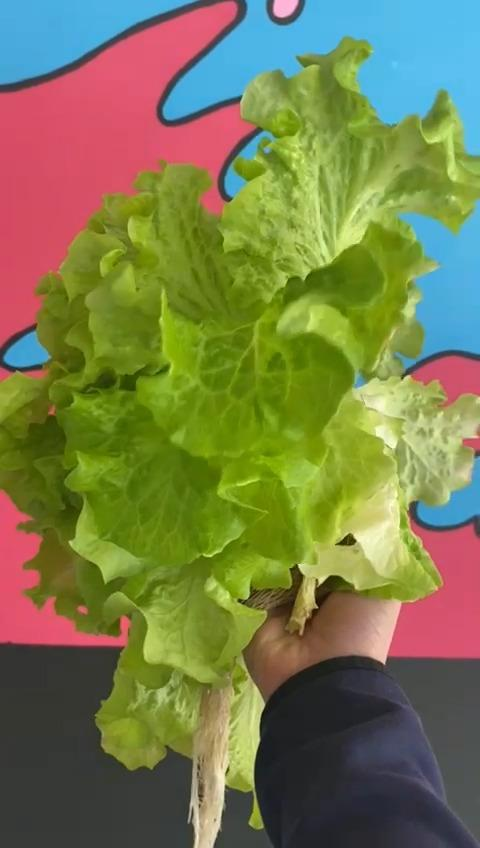Healthy Lettuce: (0, 35, 480, 829)
